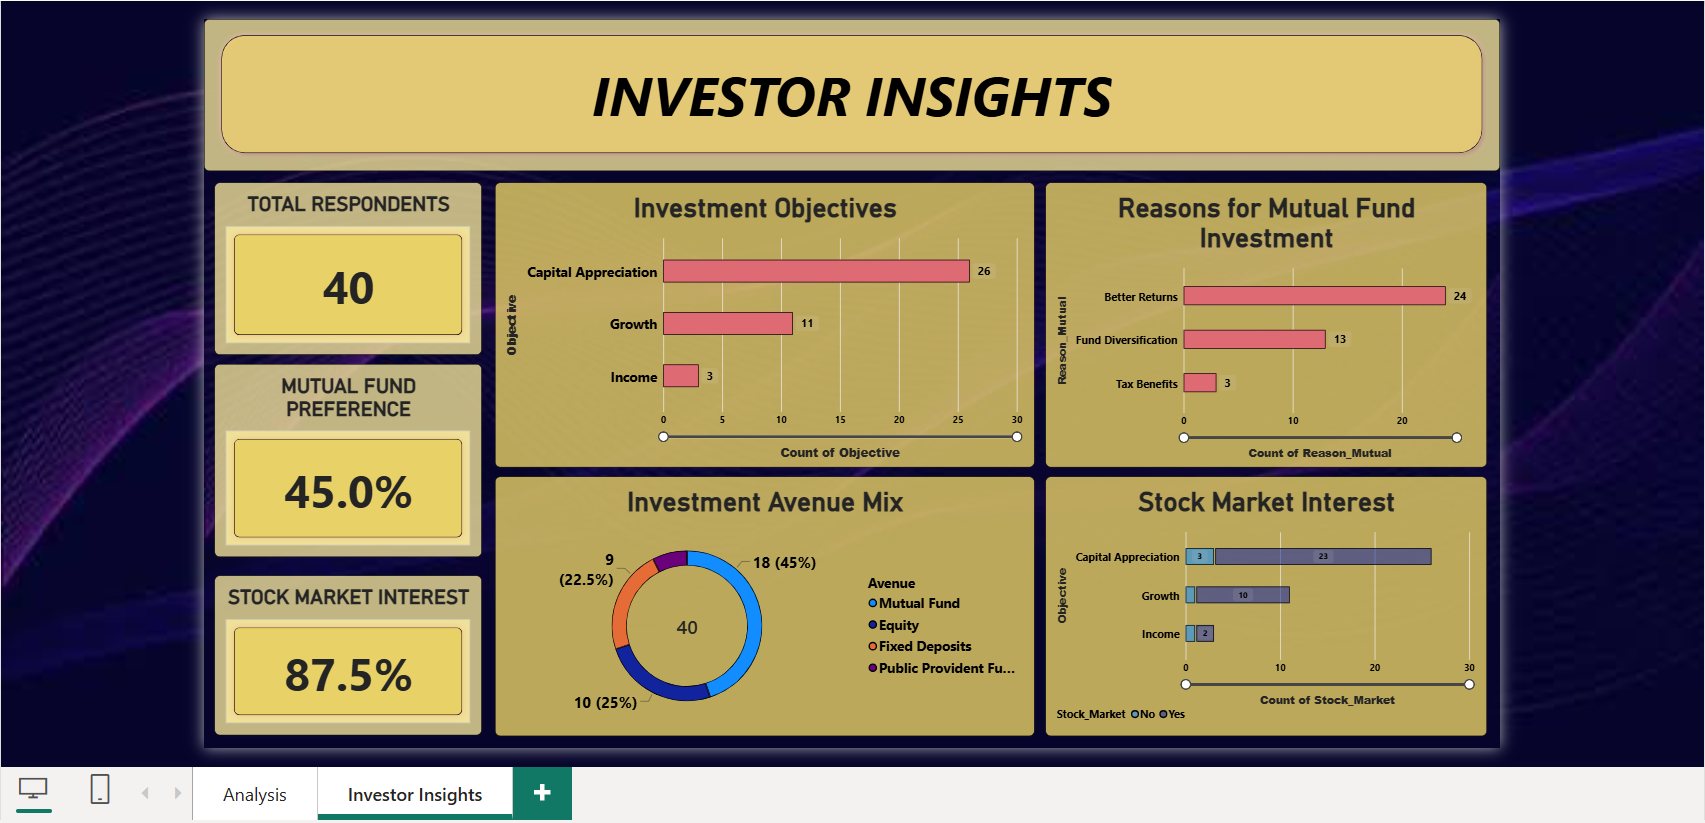

Layout of this report page (visuals, bound fields, positions):
{"tool":"powerbi","page":{"name":"Investor Insights","canvas":[1920,1080],"ordinal":1},"visuals":[{"type":"clusteredBarChart","title":"Investment Objectives","fields":{"Category":["Data_set - Copy.Objective"],"Y":["CountNonNull(Data_set - Copy.Objective)"]},"box":[431.4,241.5,799.5,422],"z":0},{"type":"clusteredBarChart","title":"Reasons for Mutual Fund Investment","fields":{"Category":["Data_set - Copy.Reason_Mutual"],"Y":["CountNonNull(Data_set - Copy.Reason_Mutual)"]},"box":[1247.3,241.5,654.1,422],"z":1000},{"type":"donutChart","title":"Investment Avenue Mix","fields":{"Category":["Data_set - Copy.Avenue"],"Y":["CountNonNull(Data_set - Copy.Avenue)"]},"box":[431.4,677.6,799.5,384.5],"z":2000},{"type":"barChart","title":"Stock Market Interest","fields":{"Category":["Data_set - Copy.Objective"],"Series":["Data_set - Copy.Stock_Market"],"Y":["CountNonNull(Data_set - Copy.Stock_Market)"]},"box":[1247.3,677.6,654.1,384.5],"z":3000},{"type":"shape","box":[0,0,1920.1,225.1],"z":4000},{"type":"cardVisual","title":"TOTAL RESPONDENTS","fields":{"Data":["Data_set - Copy.Total Respondents"]},"box":[16.4,241.5,396.2,255.5],"z":5000},{"type":"cardVisual","title":"STOCK MARKET INTEREST","fields":{"Data":["Data_set - Copy.Stock Market Interest %"]},"box":[16.4,825.3,396.2,236.8],"z":6000},{"type":"cardVisual","title":"MUTUAL FUND PREFERENCE ","fields":{"Data":["Data_set - Copy.Mutual Fund Preference %"]},"box":[16.4,511.1,396.2,286],"z":7000}]}

Visuals, with their boxes on the page's 1920x1080 design canvas (x1, y1, x2, y2). These are canvas units, not pixel positions in the 1705x823 screenshot, which may show the page scaled, cropped or inside an application window:
"Investment Objectives" clusteredBarChart: 431 242 1231 664
"Reasons for Mutual Fund Investment" clusteredBarChart: 1247 242 1901 664
"Investment Avenue Mix" donutChart: 431 678 1231 1062
"Stock Market Interest" barChart: 1247 678 1901 1062
shape: 0 0 1920 225
"TOTAL RESPONDENTS" cardVisual: 16 242 413 497
"STOCK MARKET INTEREST" cardVisual: 16 825 413 1062
"MUTUAL FUND PREFERENCE " cardVisual: 16 511 413 797
